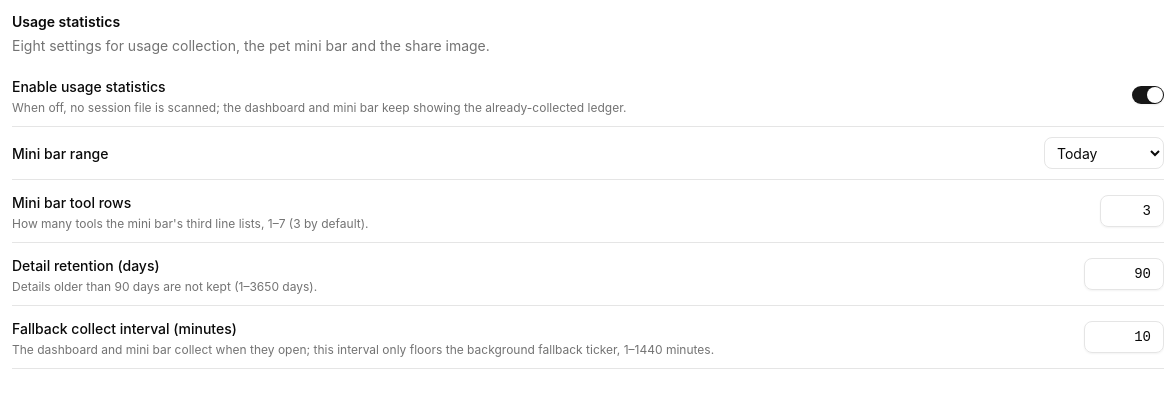
设置页「用量统计」分组（计划② Task 14） › 8. 保存失败原因可见（usage-set-error，不静默）——载体随界面变动更换
Select "Last 5 hours" in the dropdown with test id "usage-minibar-range" at (1104, 153), box 1044,137 -> 1164,169
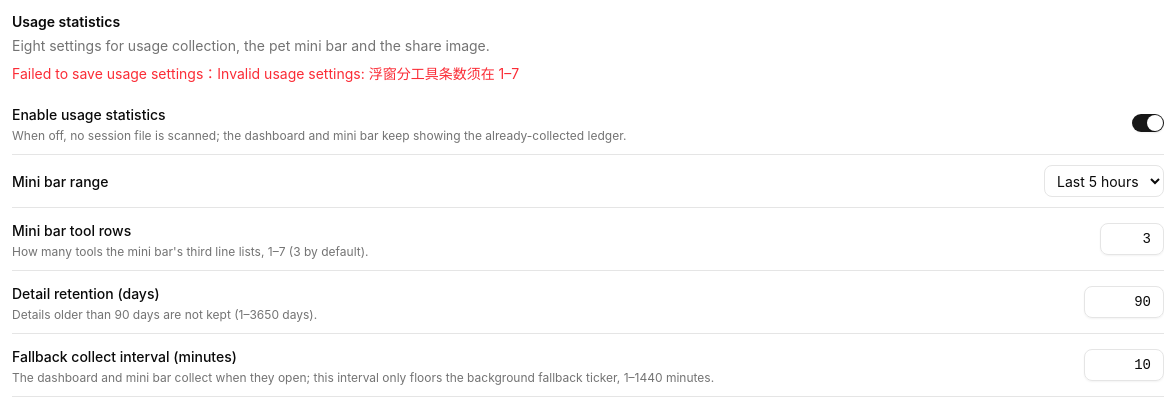
Check: the text with test id "usage-set-error" shows "Failed to save usage settings", box 12,65 -> 203,82
Check: the text with test id "usage-set-error" shows "Invalid usage settings", box 217,65 -> 519,82
Check: the text with test id "usage-set-error" shows "浮窗分工具条数须在 1–7", box 217,65 -> 519,82
